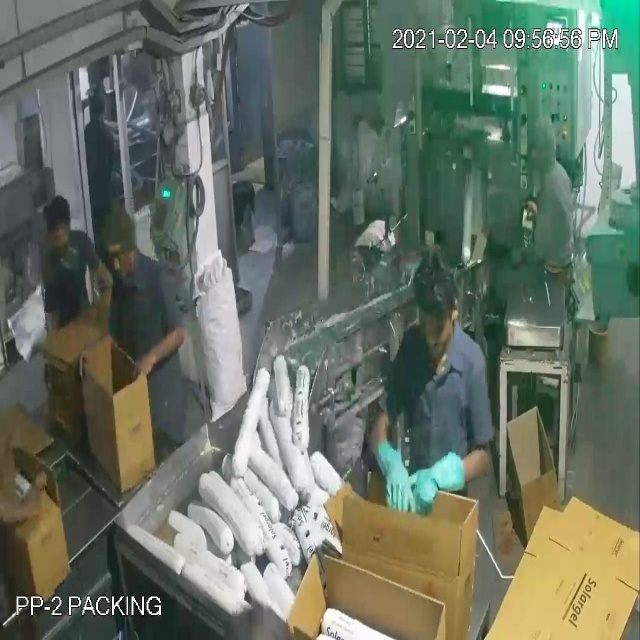Guantes: (402, 440, 494, 530), (358, 420, 419, 517)
Sin_guantes: (1, 465, 62, 546), (132, 316, 196, 392), (67, 320, 133, 372)
